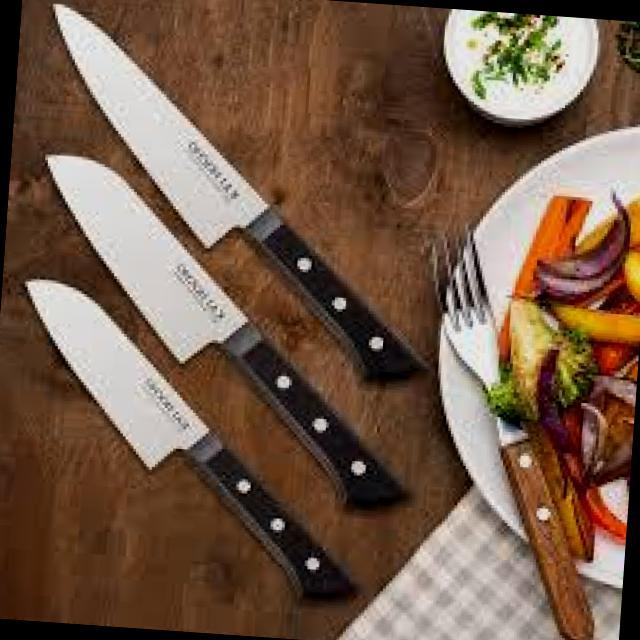Knife: (22, 0, 474, 439), (12, 114, 437, 556), (2, 232, 394, 637)
